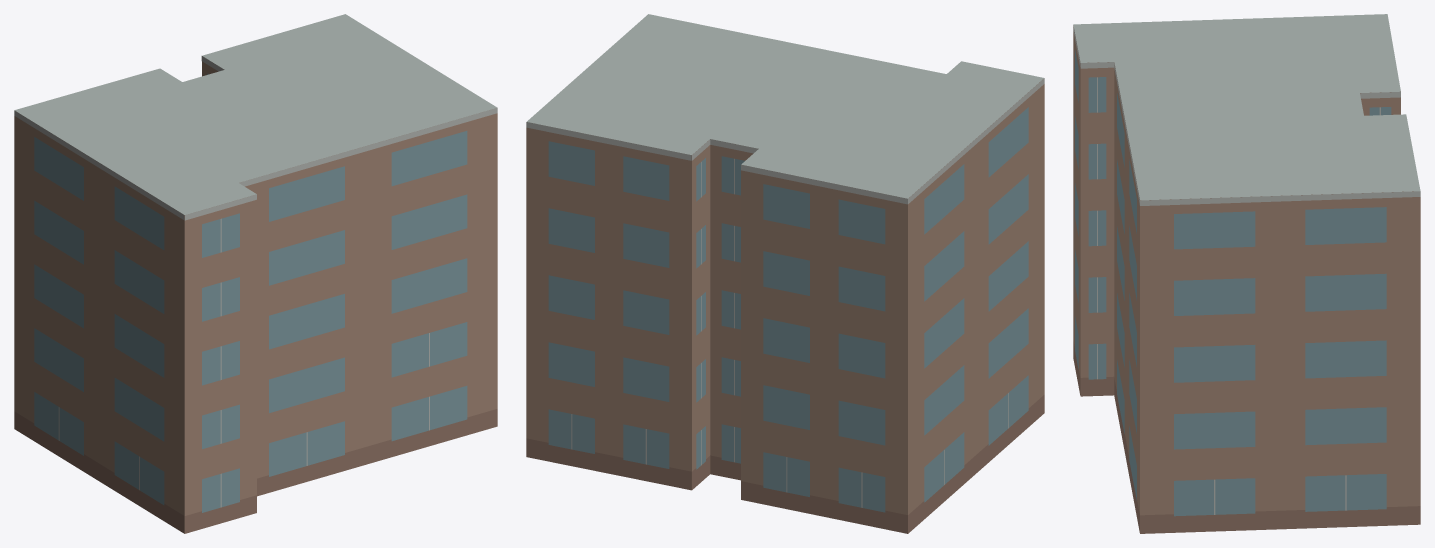
The model's file is survey-upis-32988404.glb.
The picture shows the model from 3 angles, left to right: view 1: azimuth 30°, elevation 25°; view 2: azimuth 150°, elevation 25°; view 3: azimuth 270°, elevation 25°; orthographic projection. The views are drawn at different scales.
Parts seen in each view (by area): view 1: survey-upis-32988404.tmp; view 2: survey-upis-32988404.tmp; view 3: survey-upis-32988404.tmp.
Part boxes in pixels (x1,y1,x2,y2): survey-upis-32988404.tmp: [14, 14, 497, 533]; survey-upis-32988404.tmp: [526, 14, 1044, 533]; survey-upis-32988404.tmp: [1073, 14, 1420, 533].
Size of the model in its own units: 17.09 by 14.25 by 13.46.
